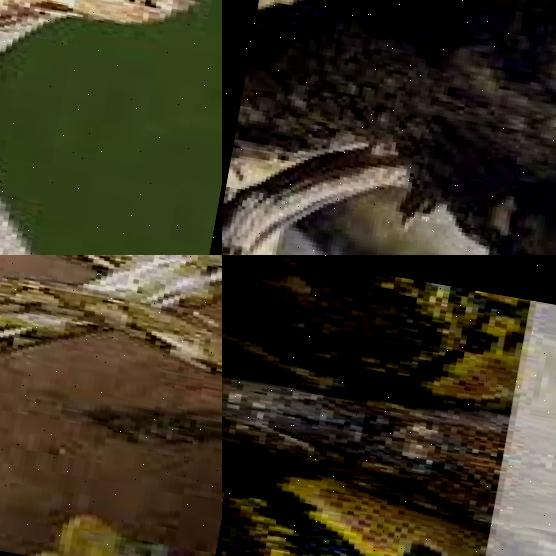snake: (222, 255, 556, 556), (227, 0, 556, 255), (0, 255, 222, 556), (0, 0, 222, 255)
